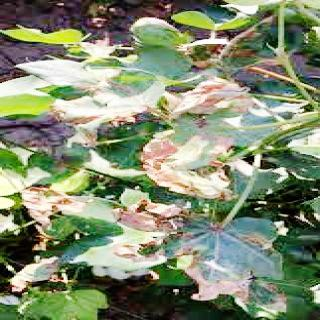wilt: (116, 198, 276, 292), (148, 130, 240, 192), (68, 76, 160, 132), (180, 83, 252, 111), (25, 187, 67, 220)
